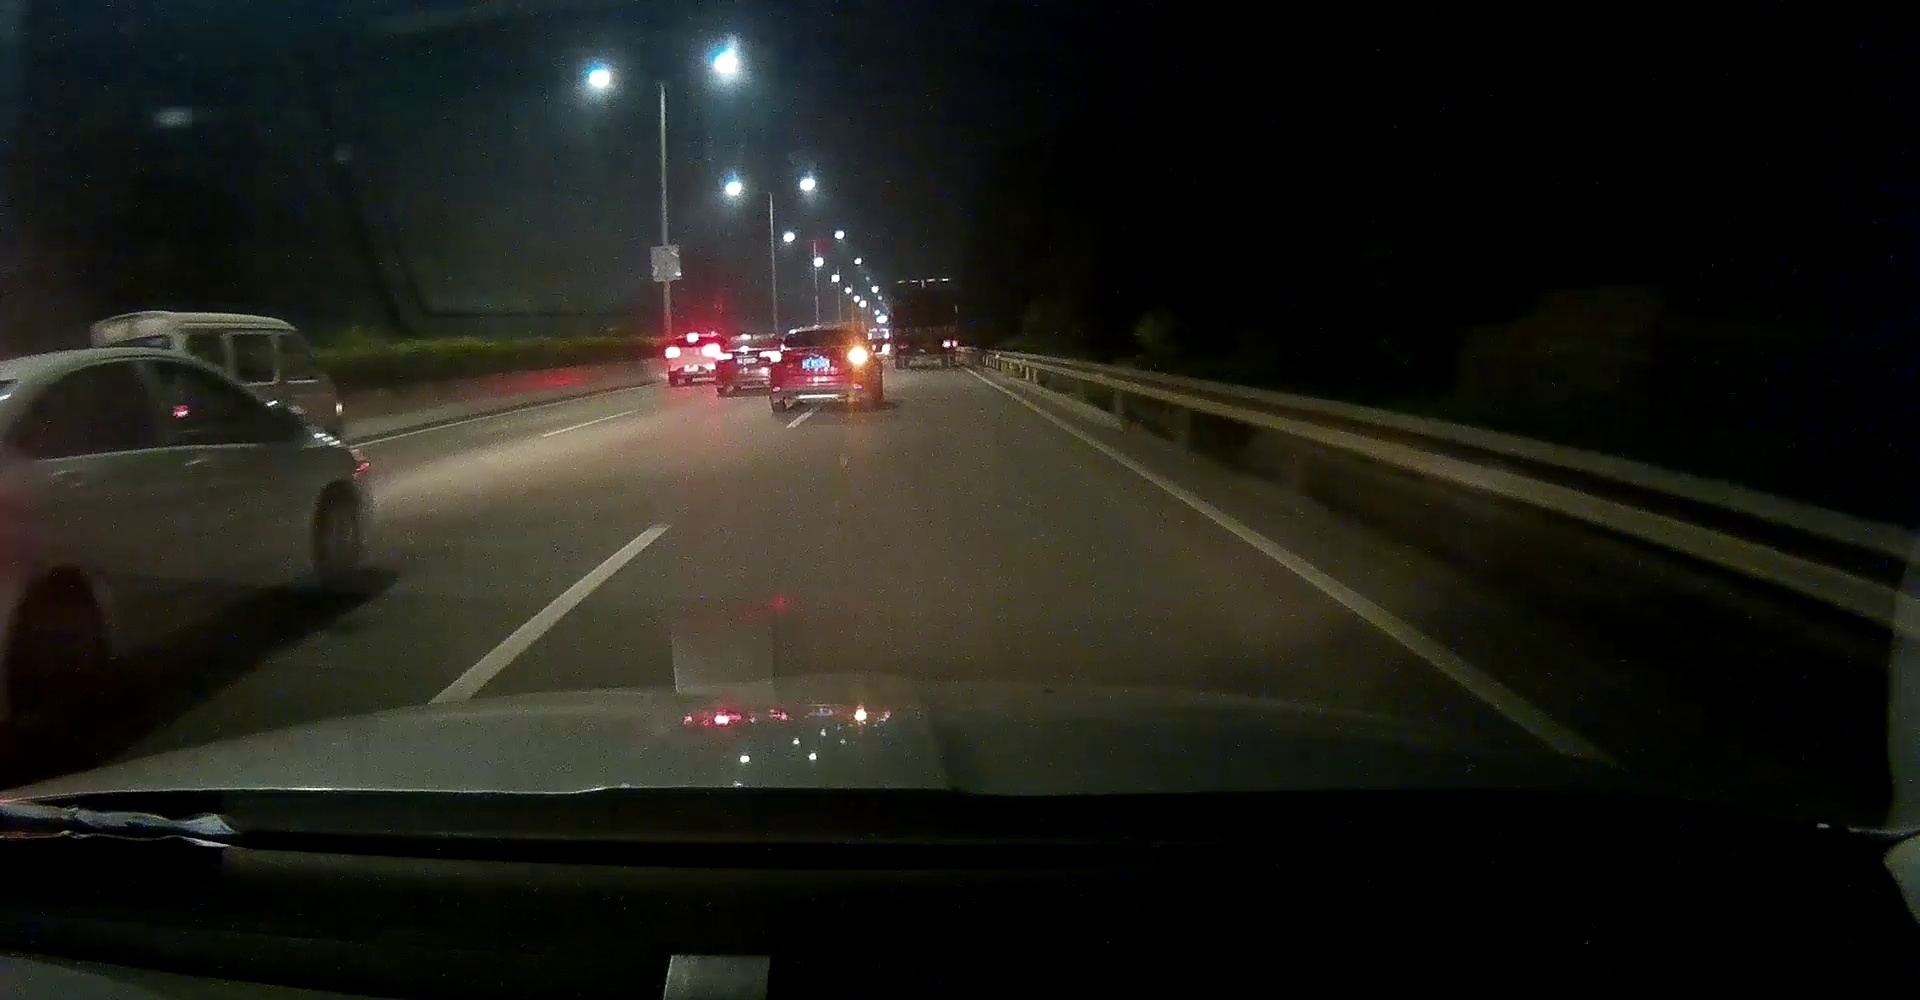L_light: (770, 352, 783, 362)
R_light: (844, 348, 869, 363)
T_light: (811, 330, 836, 335)
night-right: (767, 324, 869, 411)
